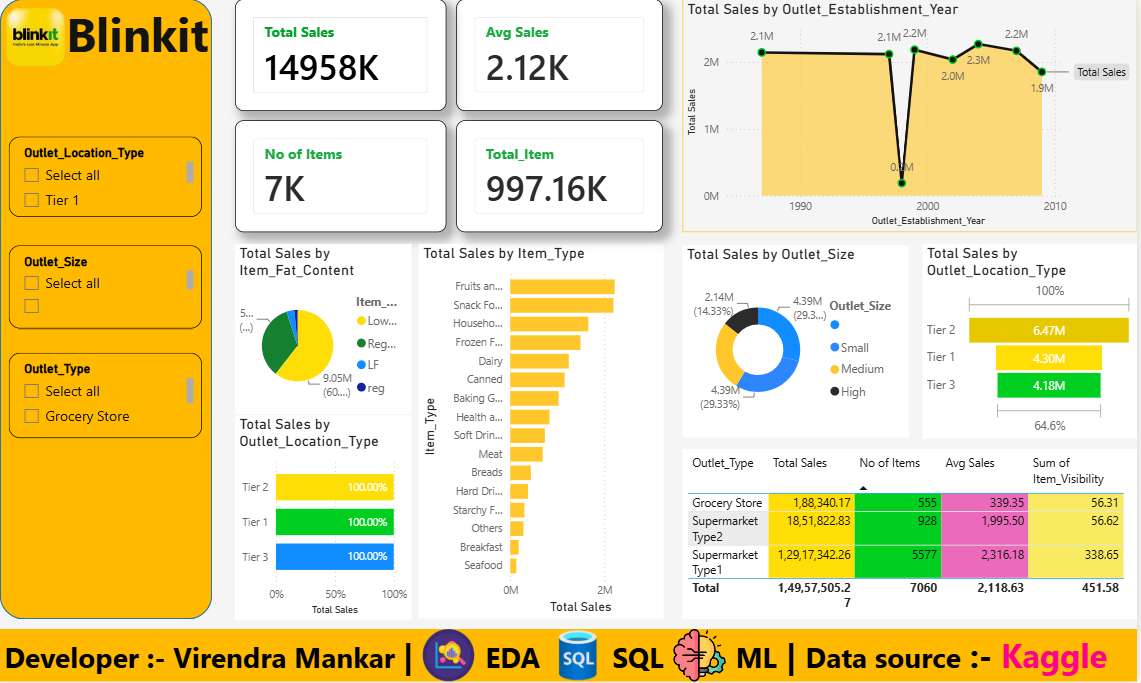

Layout of this report page (visuals, bound fields, positions):
{"tool":"powerbi","page":{"name":"Page 1","canvas":[1300,780],"ordinal":0},"visuals":[{"type":"cardVisual","fields":{"Data":["blinkit_data.Avg Sales"]},"box":[522,0,236,128],"z":0},{"type":"cardVisual","fields":{"Data":["blinkit_data.Total Sales"]},"box":[268.3,0,241.7,128.3],"z":1000},{"type":"cardVisual","fields":{"Data":["blinkit_data.No of Items"]},"box":[268.3,138.3,241.7,128.3],"z":2000},{"type":"clusteredBarChart","fields":{"Category":["blinkit_data.Item_Type"],"Y":["blinkit_data.Total Sales"]},"box":[478,280,280,428],"z":3000},{"type":"donutChart","fields":{"Category":["blinkit_data.Outlet_Size"],"Y":["blinkit_data.Total Sales"]},"box":[780,282,258,220],"z":4000},{"type":"hundredPercentStackedBarChart","fields":{"Category":["blinkit_data.Outlet_Location_Type"],"Y":["blinkit_data.Total Sales"]},"box":[268.3,475,201.7,233.3],"z":5000},{"type":"lineChart","fields":{"Category":["blinkit_data.Outlet_Establishment_Year"],"Y":["blinkit_data.Total Sales"]},"box":[780,0,520,266],"z":6000},{"type":"tableEx","fields":{"Values":["blinkit_data.Outlet_Type","blinkit_data.Total Sales","blinkit_data.No of Items","blinkit_data.Avg Sales","Sum(blinkit_data.Item_Visibility)"]},"box":[780,514,520,194],"z":7000},{"type":"funnel","fields":{"Category":["blinkit_data.Outlet_Location_Type"],"Y":["blinkit_data.Total Sales"]},"box":[1054,280,246,222],"z":8000},{"type":"pieChart","fields":{"Category":["blinkit_data.Item_Fat_Content"],"Y":["blinkit_data.Total Sales"]},"box":[268.6,280,201.4,194.3],"z":9000},{"type":"cardVisual","fields":{"Data":["blinkit_data.Total_Item"]},"box":[522,138,236,128],"z":10000},{"type":"shape","box":[0,0,242.1,708.6],"z":11000},{"type":"slicer","fields":{"Values":["blinkit_data.Outlet_Location_Type"]},"box":[10,156.7,221.1,92.2],"z":12000},{"type":"slicer","fields":{"Values":["blinkit_data.Outlet_Size"]},"box":[10,281.1,221.1,95.6],"z":13000},{"type":"slicer","fields":{"Values":["blinkit_data.Outlet_Type"]},"box":[10,404.4,221.1,97.8],"z":14000},{"type":"textbox","box":[0,720,1300,60],"z":14001},{"type":"image","box":[478,720,68,60],"z":14002},{"type":"image","box":[627,720,66,60],"z":14003},{"type":"image","box":[767,720,65,60],"z":14004},{"type":"image","box":[0,0,81.4,87.1],"z":14005}]}

Visuals, with their boxes in screenshot pixels (x1, y1, x2, y2), scaled from the page's 1300x780 canvas onto the 1141x683 screenshot:
cardVisual - blinkit_data.Avg Sales: bbox(458, 0, 665, 112)
cardVisual - blinkit_data.Total Sales: bbox(235, 0, 448, 112)
cardVisual - blinkit_data.No of Items: bbox(235, 121, 448, 233)
clusteredBarChart - blinkit_data.Item_Type x blinkit_data.Total Sales: bbox(420, 245, 665, 620)
donutChart - blinkit_data.Outlet_Size x blinkit_data.Total Sales: bbox(685, 247, 911, 440)
hundredPercentStackedBarChart - blinkit_data.Outlet_Location_Type x blinkit_data.Total Sales: bbox(235, 416, 413, 620)
lineChart - blinkit_data.Outlet_Establishment_Year x blinkit_data.Total Sales: bbox(685, 0, 1140, 233)
tableEx - blinkit_data.Outlet_Type x blinkit_data.Total Sales: bbox(685, 450, 1140, 620)
funnel - blinkit_data.Outlet_Location_Type x blinkit_data.Total Sales: bbox(925, 245, 1140, 440)
pieChart - blinkit_data.Item_Fat_Content x blinkit_data.Total Sales: bbox(236, 245, 413, 415)
cardVisual - blinkit_data.Total_Item: bbox(458, 121, 665, 233)
shape: bbox(0, 0, 212, 620)
slicer - blinkit_data.Outlet_Location_Type: bbox(9, 137, 203, 218)
slicer - blinkit_data.Outlet_Size: bbox(9, 246, 203, 330)
slicer - blinkit_data.Outlet_Type: bbox(9, 354, 203, 440)
textbox: bbox(0, 630, 1140, 682)
image: bbox(420, 630, 479, 682)
image: bbox(550, 630, 608, 682)
image: bbox(673, 630, 730, 682)
image: bbox(0, 0, 71, 76)
